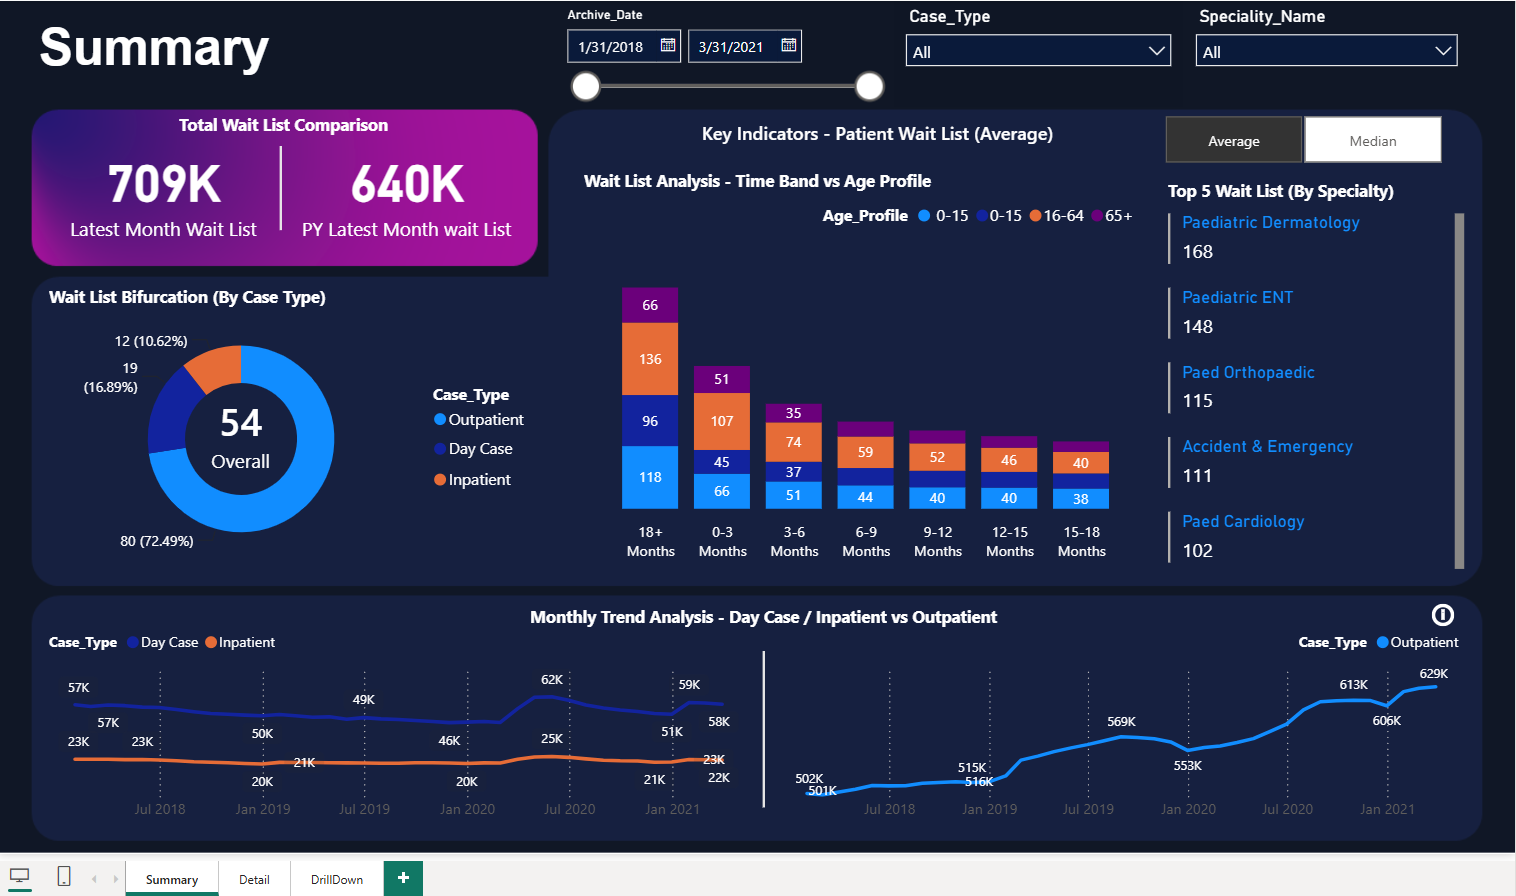

Layout of this report page (visuals, bound fields, positions):
{"tool":"powerbi","page":{"name":"Summary","canvas":[1280,720],"ordinal":0},"visuals":[{"type":"card","fields":{"Values":["All_data.Latest Month Wait List"]},"box":[37.9,96.3,203.3,127.4],"z":0},{"type":"card","fields":{"Values":["All_data.PY Latest Month wait List"]},"box":[248,96.3,193.6,127.4],"z":1000},{"type":"slicer","fields":{"Values":["Table.Calc Method"]},"box":[959.4,90.3,282.7,53.2],"z":2000},{"type":"donutChart","title":"Wait List Bifurcation (By Case Type)","fields":{"Y":["All_data.Avg/Mid Wait List"],"Category":["All_data.Case_Type"]},"box":[37.9,239.3,420.2,240.2],"z":3000},{"type":"columnChart","title":"Wait List Analysis  - Time Band vs Age Profile","fields":{"Y":["All_data.Avg/Mid Wait List"],"Category":["All_data.Time_Bands"],"Series":["All_data.Age_Profile"]},"box":[489.2,142,478.5,337.5],"z":4000},{"type":"multiRowCard","title":"Top 5 Wait List (By Specialty)","fields":{"Values":["All_data.Avg/Mid Wait List","All_data.Speciality_Name"]},"box":[982.4,149.8,259.7,346.3],"z":5000},{"type":"cardVisual","fields":{"Data":["All_data.NODataLeft"]},"box":[67.1,564.1,544.7,93.4],"z":6000},{"type":"lineChart","fields":{"Y":["Sum(All_data.Total)"],"Series":["All_data.Case_Type"],"Category":["All_data.Archive_Date"]},"box":[37.9,521.3,602.1,179],"z":7000},{"type":"cardVisual","fields":{"Data":["All_data.NODataRight"]},"box":[704.2,564.1,509.7,93.4],"z":8000},{"type":"lineChart","fields":{"Y":["Sum(All_data.Total)"],"Series":["All_data.Case_Type"],"Category":["All_data.Archive_Date.Variation.Date Hierarchy.Year"]},"box":[655.6,521.3,586.5,179],"z":9000},{"type":"slicer","fields":{"Values":["All_data.Archive_Date"]},"box":[467.1,0,289,90.1],"z":10000},{"type":"slicer","fields":{"Values":["All_data.Case_Type"]},"box":[756.1,0,244.5,90.1],"z":11000},{"type":"slicer","fields":{"Values":["All_data.Speciality_Name"]},"box":[1000.6,0,241.5,90.1],"z":12000},{"type":"textbox","box":[29.7,0,437.4,90.1],"z":13000},{"type":"cardVisual","fields":{"Data":["All_data.Avg/Mid Wait List"]},"box":[146.9,315.1,116.7,101.2],"z":14000},{"type":"shape","box":[201.3,122.6,73.9,71],"z":15000},{"type":"textbox","box":[91.4,89.5,299.6,33.1],"z":16000},{"type":"shape","box":[608.9,548.6,73.9,132.3],"z":17000},{"type":"textbox","box":[388.1,504.8,515.5,33.1],"z":18000},{"type":"cardVisual","fields":{"Data":["All_data.Dynamic Title"]},"box":[517.4,78.8,450.3,63.2],"z":19000},{"type":"actionButton","box":[1205.7,504.6,42.2,27],"z":20000}]}

Visuals, with their boxes on the page's 1280x720 design canvas (x1, y1, x2, y2). These are canvas units, not pixel positions in the 1516x896 screenshot, which may show the page scaled, cropped or inside an application window:
card - All_data.Latest Month Wait List: crop(38, 96, 241, 224)
card - All_data.PY Latest Month wait List: crop(248, 96, 442, 224)
slicer - Table.Calc Method: crop(959, 90, 1242, 144)
"Wait List Bifurcation (By Case Type)" donutChart: crop(38, 239, 458, 480)
"Wait List Analysis  - Time Band vs Age Profile" columnChart: crop(489, 142, 968, 480)
"Top 5 Wait List (By Specialty)" multiRowCard: crop(982, 150, 1242, 496)
cardVisual - All_data.NODataLeft: crop(67, 564, 612, 658)
lineChart - Sum(All_data.Total) x All_data.Case_Type: crop(38, 521, 640, 700)
cardVisual - All_data.NODataRight: crop(704, 564, 1214, 658)
lineChart - Sum(All_data.Total) x All_data.Case_Type: crop(656, 521, 1242, 700)
slicer - All_data.Archive_Date: crop(467, 0, 756, 90)
slicer - All_data.Case_Type: crop(756, 0, 1001, 90)
slicer - All_data.Speciality_Name: crop(1001, 0, 1242, 90)
textbox: crop(30, 0, 467, 90)
cardVisual - All_data.Avg/Mid Wait List: crop(147, 315, 264, 416)
shape: crop(201, 123, 275, 194)
textbox: crop(91, 90, 391, 123)
shape: crop(609, 549, 683, 681)
textbox: crop(388, 505, 904, 538)
cardVisual - All_data.Dynamic Title: crop(517, 79, 968, 142)
actionButton: crop(1206, 505, 1248, 532)
